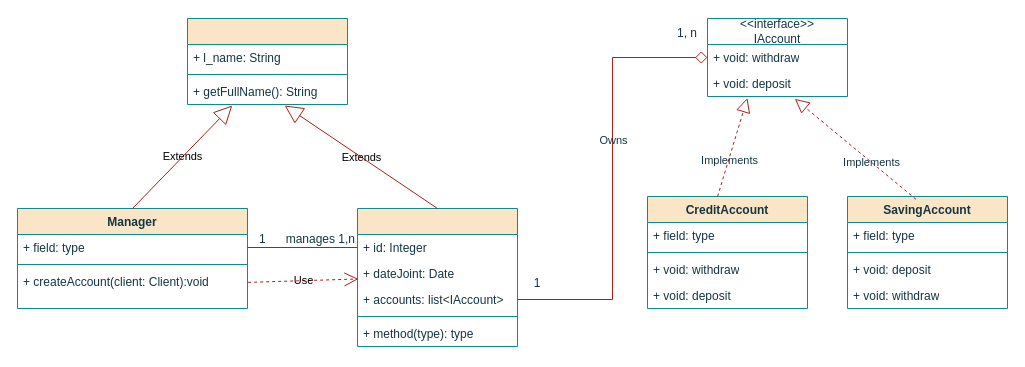
The diagram is 1025 pixels wide and 367 high, and some of its shapes have lost their labels. The shapes that lost their labels are listed below. From the top down, each one's box as (x1, y1, x2, y2) in pixels, then its label:
(186, 18, 348, 104): Person
(356, 208, 518, 346): Client
